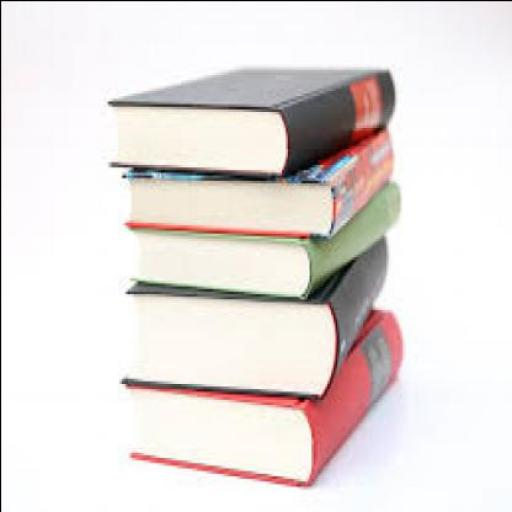paper: (125, 308, 403, 486), (121, 232, 389, 393), (128, 176, 401, 294), (118, 124, 394, 238), (108, 66, 394, 176)
